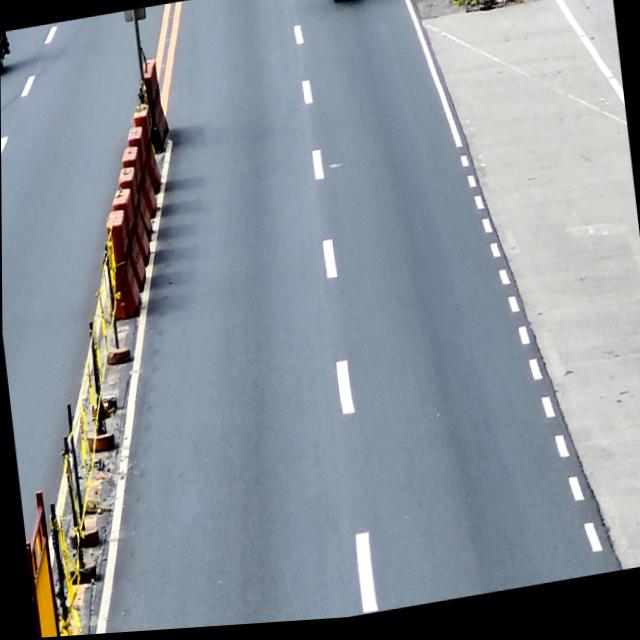E-bike: (328, 0, 363, 8)
Tricycle: (0, 30, 12, 79)
